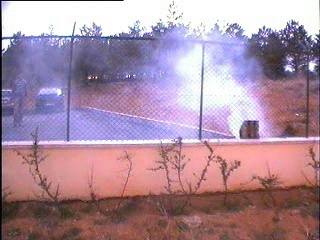smoke: (141, 22, 278, 140)
